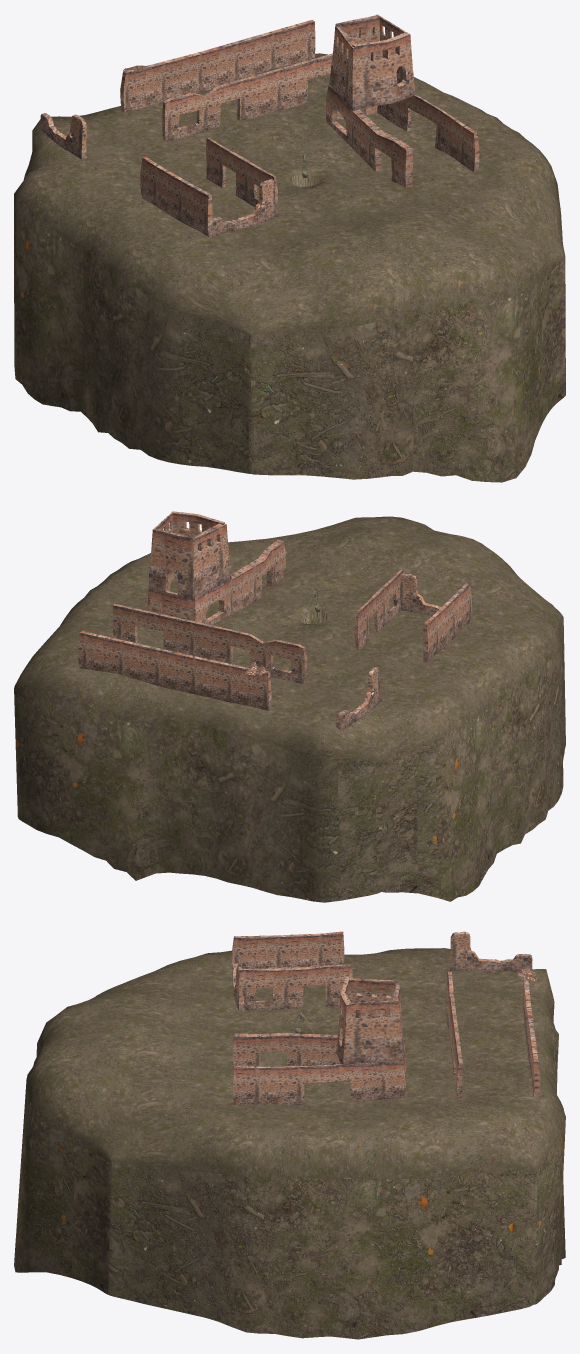
File: SM_PigFarm_00_00.fbx
3 renders of one model, top to bottom at view 1: azimuth 30°, elevation 25°; view 2: azimuth 150°, elevation 25°; view 3: azimuth 270°, elevation 25°, orthographic. The views are drawn at different scales.
Parts seen in each view (by area): view 1: SM_PigFarm_00_00.002, SM_PigFarm_00_00.001; view 2: SM_PigFarm_00_00.002, SM_PigFarm_00_00.001; view 3: SM_PigFarm_00_00.002, SM_PigFarm_00_00.001.
Boxes of the visible parts, x1,y1,x2,y2 form: SM_PigFarm_00_00.002: (14, 53, 565, 482); SM_PigFarm_00_00.001: (40, 14, 479, 236); SM_PigFarm_00_00.002: (14, 516, 565, 902); SM_PigFarm_00_00.001: (78, 511, 471, 730); SM_PigFarm_00_00.002: (14, 948, 565, 1339); SM_PigFarm_00_00.001: (231, 931, 540, 1105).
Bounding box in the file's own units: 6367 × 4294 × 7001.
